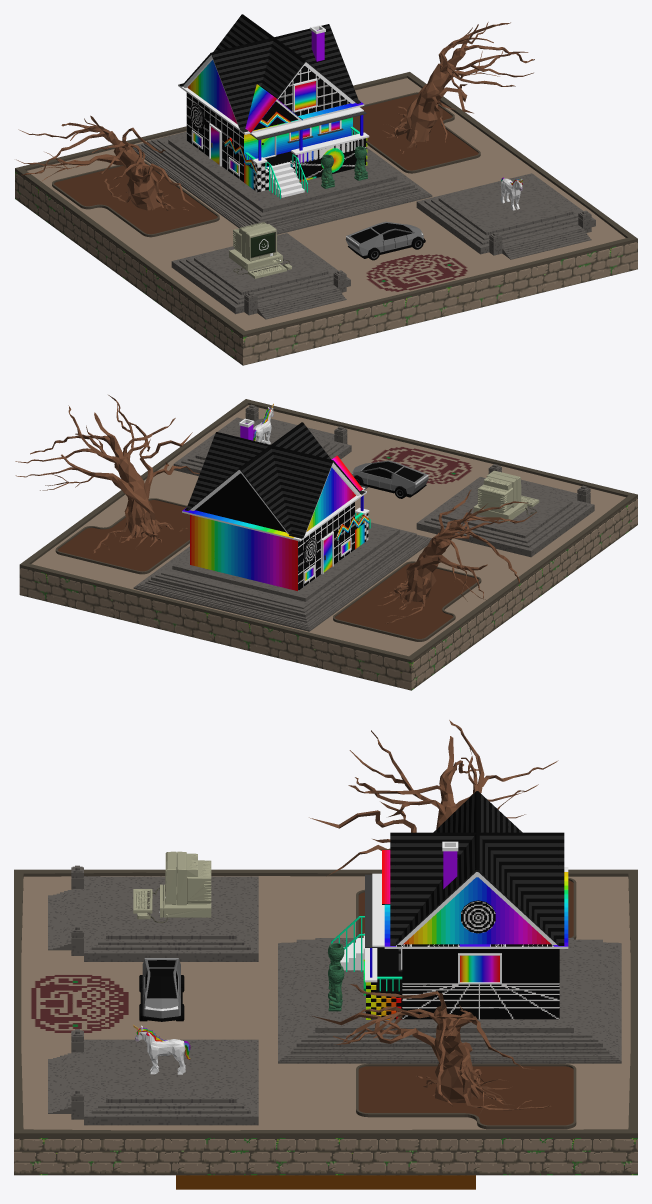
The picture shows the model from 3 angles, top to bottom: view 1: azimuth 30°, elevation 25°; view 2: azimuth 150°, elevation 25°; view 3: azimuth 270°, elevation 25°; orthographic projection. The views are drawn at different scales.
Parts seen in each view (by area): view 1: Cube.011, Cube.1320, OBJRANDOM_RETRO_PC, VEHICLES_CYBERTRUCK, ANIMAL_UNICORNIO; view 2: Cube.011, Cube.1320, OBJRANDOM_RETRO_PC, VEHICLES_CYBERTRUCK, ANIMAL_UNICORNIO; view 3: Cube.011, Cube.1320, UNDERGROUND_ART_PIECE_VAN_GOGH, OBJRANDOM_RETRO_PC, VEHICLES_CYBERTRUCK, ANIMAL_UNICORNIO.
Part boxes in pixels (box(x1,y1,x2,y2)): Cube.011: box(15, 22, 637, 365); Cube.1320: box(178, 14, 369, 198); OBJRANDOM_RETRO_PC: box(229, 222, 292, 278); VEHICLES_CYBERTRUCK: box(345, 221, 425, 260); ANIMAL_UNICORNIO: box(500, 177, 522, 210); Cube.011: box(15, 395, 637, 690); Cube.1320: box(182, 418, 370, 590); OBJRANDOM_RETRO_PC: box(473, 470, 539, 522); VEHICLES_CYBERTRUCK: box(351, 460, 428, 498); ANIMAL_UNICORNIO: box(253, 403, 273, 444); Cube.011: box(14, 720, 637, 1175); Cube.1320: box(331, 791, 568, 1019); UNDERGROUND_ART_PIECE_VAN_GOGH: box(176, 1175, 475, 1189); OBJRANDOM_RETRO_PC: box(133, 851, 211, 922); VEHICLES_CYBERTRUCK: box(139, 958, 184, 1021); ANIMAL_UNICORNIO: box(133, 1024, 190, 1074).
Bounding box in the file's own units: 5099 × 1785 × 4000.
36 materials, 8 textured.
